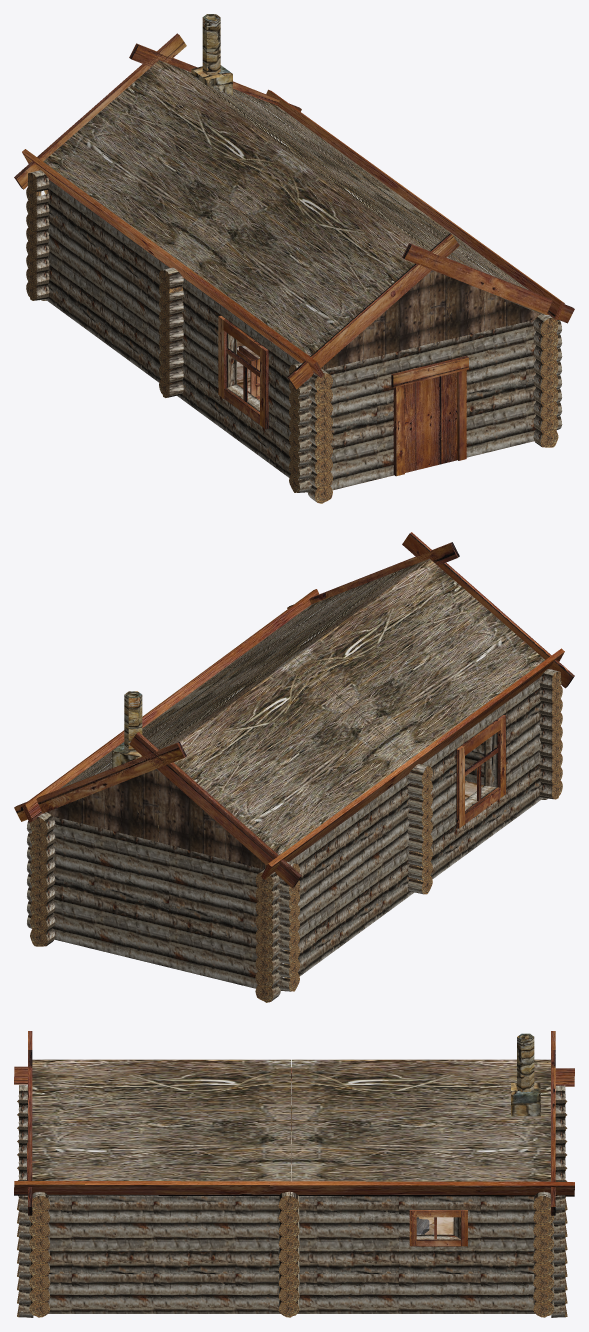
File: Building.fbx
The picture shows the model from 3 angles, top to bottom: view 1: azimuth 30°, elevation 25°; view 2: azimuth 150°, elevation 25°; view 3: azimuth 270°, elevation 25°; orthographic projection. The views are drawn at different scales.
Parts seen in each view (by area): view 1: Cube.011, Cube, Cube.009, Cylinder.004, Cube.012, Cube.010, Cylinder.092, Cube.099, Cube.005, Cube.008, Cylinder, Cube.001; view 2: Cube.011, Cube, Cube.009, Cylinder.004, Cube.012, Cube.010, Cylinder.092, Cube.008, Cylinder; view 3: Cube.011, Cube, Cube.010, Cylinder.004, Cylinder.092, Cube.009, Cube.007, Cylinder, Cube.001, Plane.
Boxes of the visible parts, x1,y1,x2,y2 form: Cube.011: (43,60,541,356); Cube: (46,180,535,489); Cube.009: (14,33,574,389); Cylinder.004: (26,170,562,492); Cube.012: (49,180,540,369); Cube.010: (22,89,564,377); Cylinder.092: (41,299,558,503); Cube.099: (405,372,456,472); Cube.005: (391,356,468,476); Cube.008: (218,315,268,429); Cylinder: (202,14,220,74); Cube.001: (191,65,232,95); Cube.011: (60,558,544,855); Cube: (53,678,542,988); Cube.009: (14,532,574,887); Cylinder.004: (27,669,562,991); Cube.012: (46,678,539,869); Cube.010: (22,589,564,879); Cylinder.092: (30,798,547,1002); Cube.008: (456,715,506,828); Cylinder: (124,691,142,752); Cube.011: (32,1059,550,1181); Cube: (48,1195,535,1313); Cube.010: (14,1066,574,1196); Cylinder.004: (29,1081,554,1317); Cylinder.092: (17,1085,567,1317); Cube.009: (28,1031,555,1215); Cube.007: (409,1210,467,1246); Cylinder: (517,1033,534,1091); Cube.001: (511,1083,540,1116); Plane: (419,1217,453,1234).
Bounding box in the file's own units: 608 × 522 × 1079.
